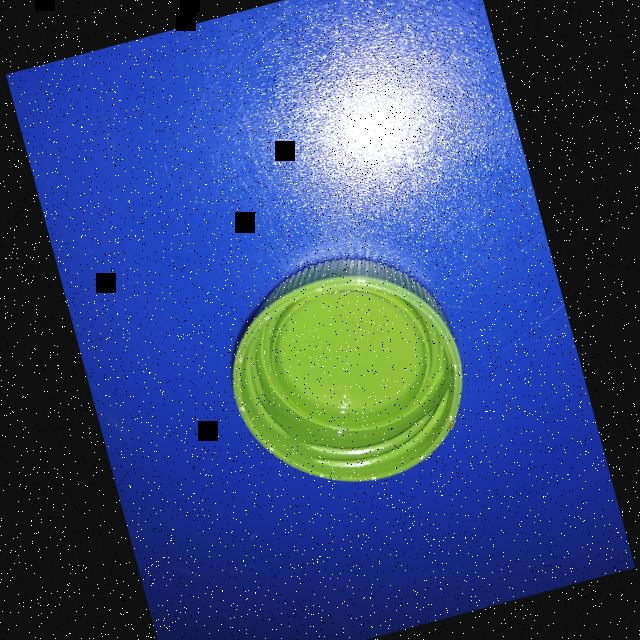plastic_bottle_cap: (204, 232, 486, 510)
